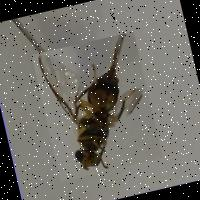Oriental-fruit-fly: (29, 30, 162, 180)
